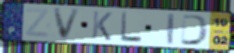D: (179, 13, 210, 47)
I: (166, 12, 176, 46)
K: (91, 10, 114, 42)
L: (119, 11, 144, 44)
V: (52, 8, 83, 41)
Z: (24, 7, 52, 39)
